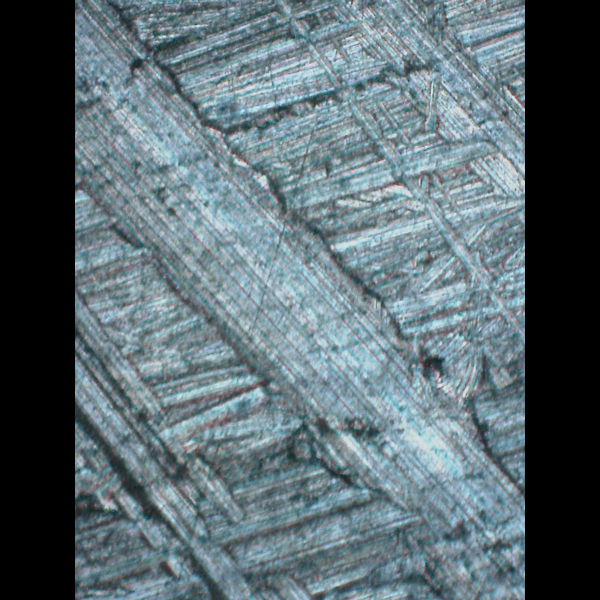d: (74, 0, 523, 597), (74, 242, 318, 599)
